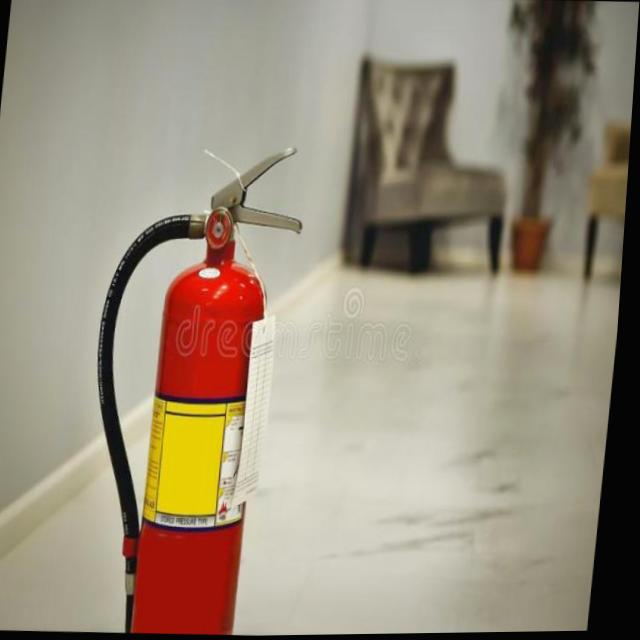FireExtinguisher: (72, 136, 315, 637)
